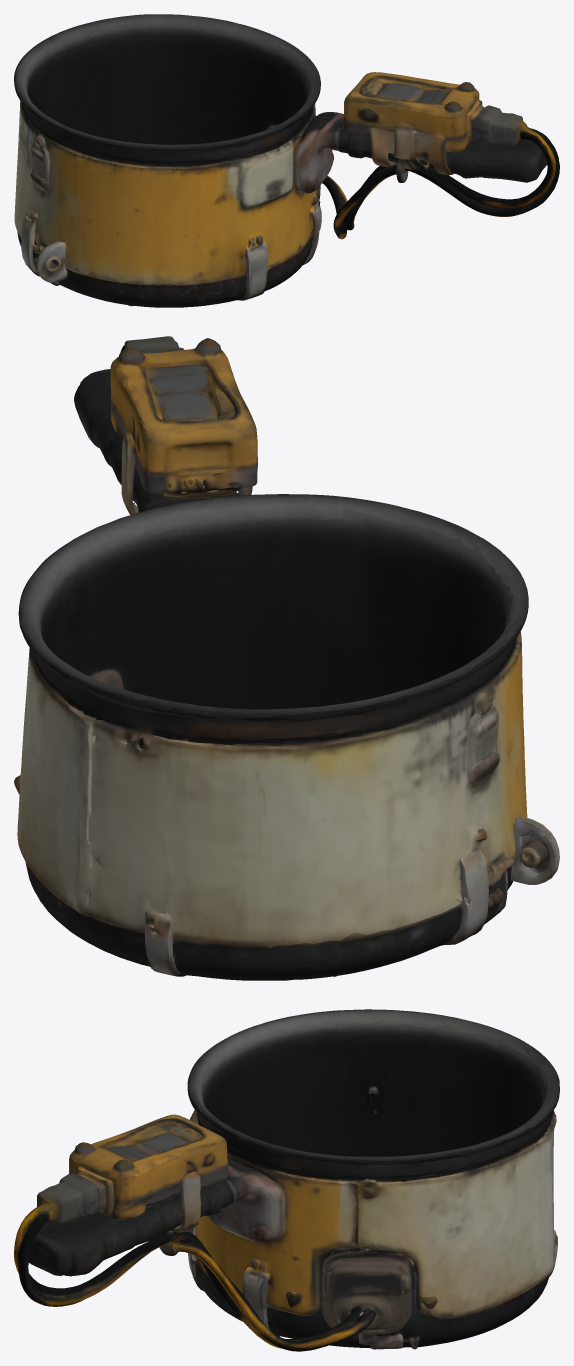
File: pot.glb
3 views of the same model, one above another, from view 1: azimuth 30°, elevation 25°; view 2: azimuth 150°, elevation 25°; view 3: azimuth 270°, elevation 25° (orthographic). The views are drawn at different scales.
Visible parts, largest first — view 1: world; view 2: world; view 3: world.
Part boxes in pixels (<box>): world: <box>14,14,559,307</box>; world: <box>14,336,559,980</box>; world: <box>14,1009,559,1351</box>.
Size of the model in its own units: 0.9715 by 0.4787 by 0.9776.
1 material, 1 textured.
